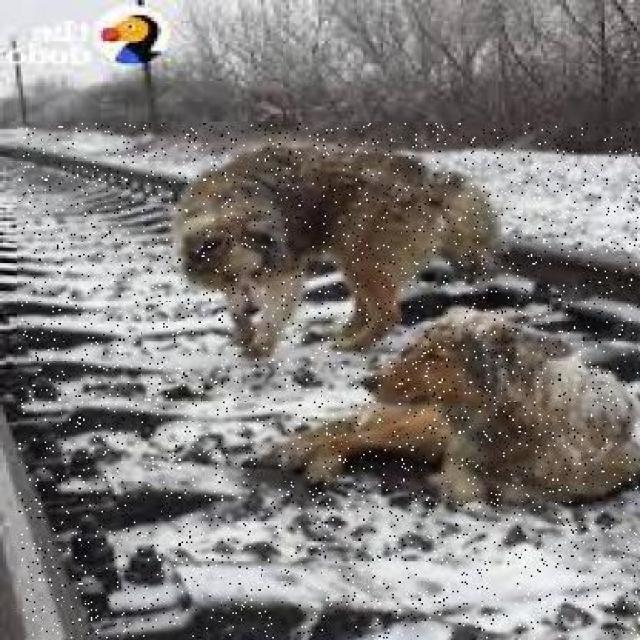rail: (19, 124, 638, 639)
